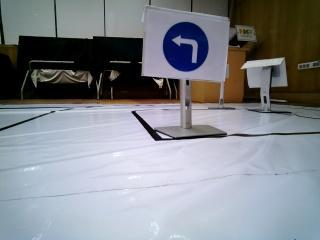left: (149, 13, 216, 69)
